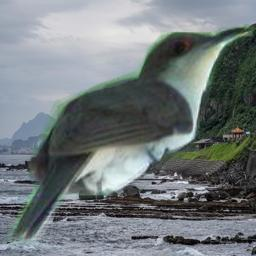Cuckoo: (8, 24, 256, 246)
